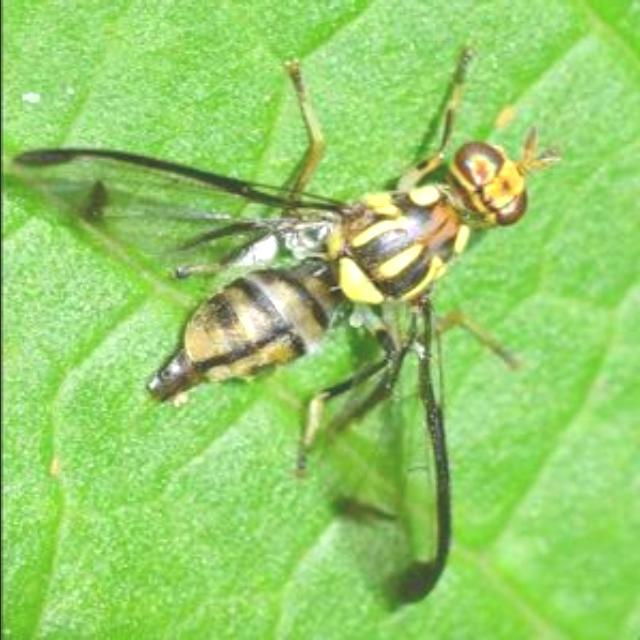melon fly: (66, 12, 556, 610)
